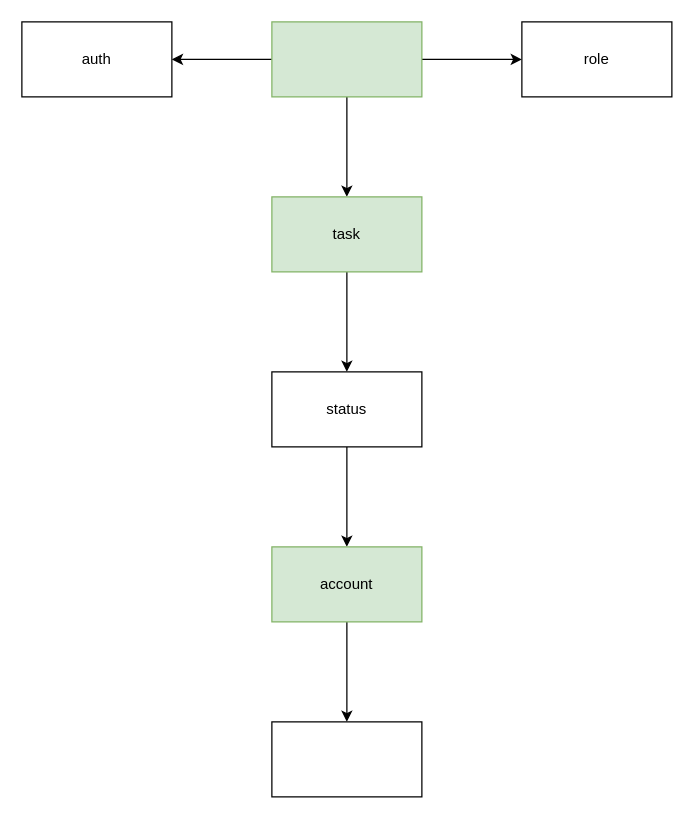
The diagram is 694 pixels wide and 819 high, and some of its shapes have lost their labels. Here are the shapes that lost their labels. From the top down, the centre of each, then its label:
point (346, 59): user
point (346, 759): audit log
